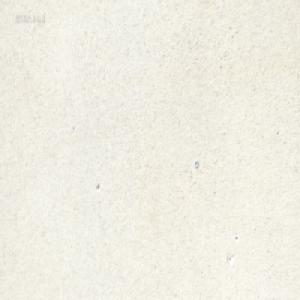Washer: (194, 160, 199, 169)
